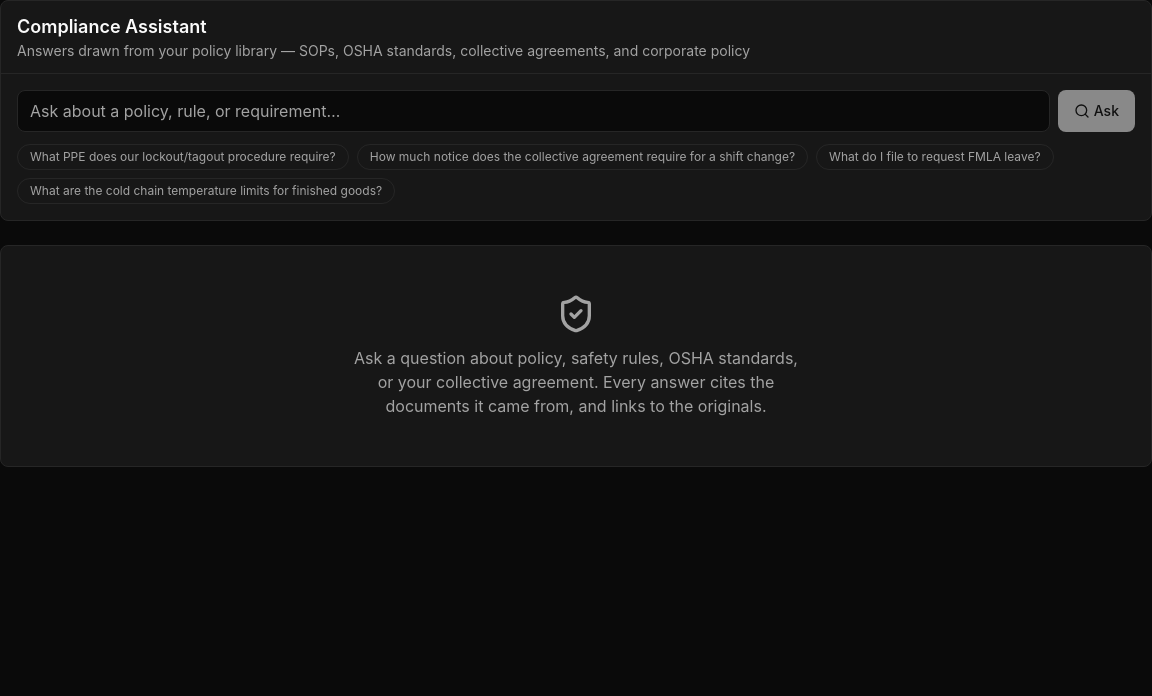
Compliance Assistant › renders a grounded answer with its cited passage
Type "lockout procedure" into the field named "Compliance question" at (533, 111), box [17,90,1050,132]
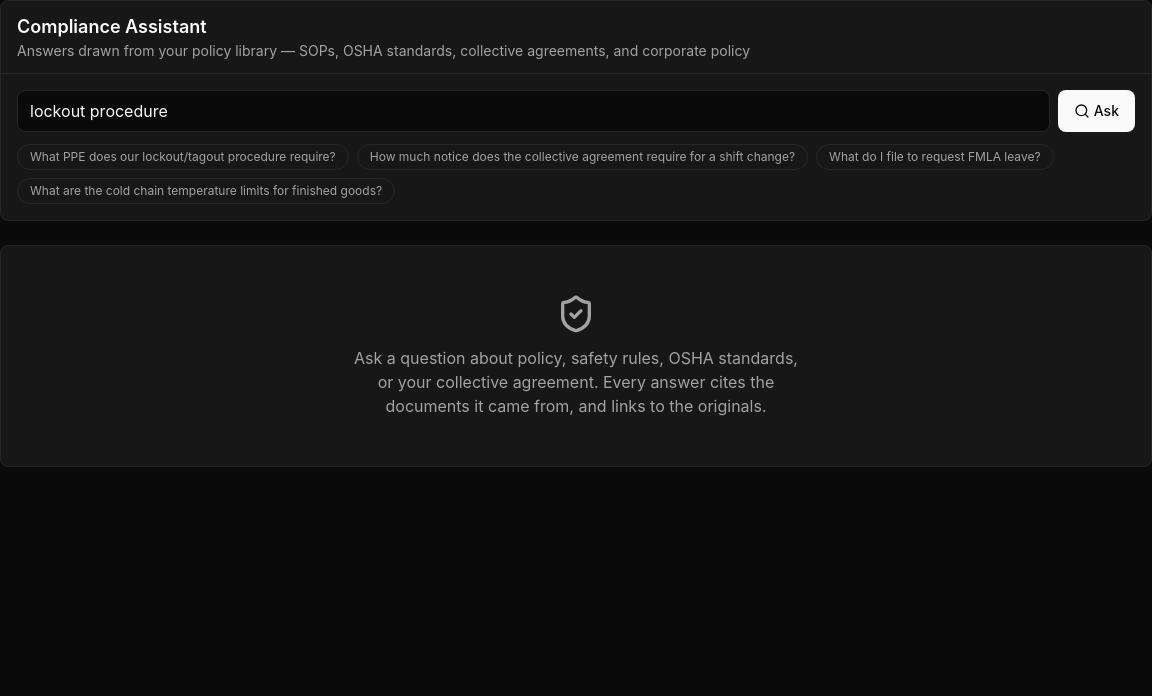
Click the button "Ask" at (1096, 111), box [1058,90,1135,132]
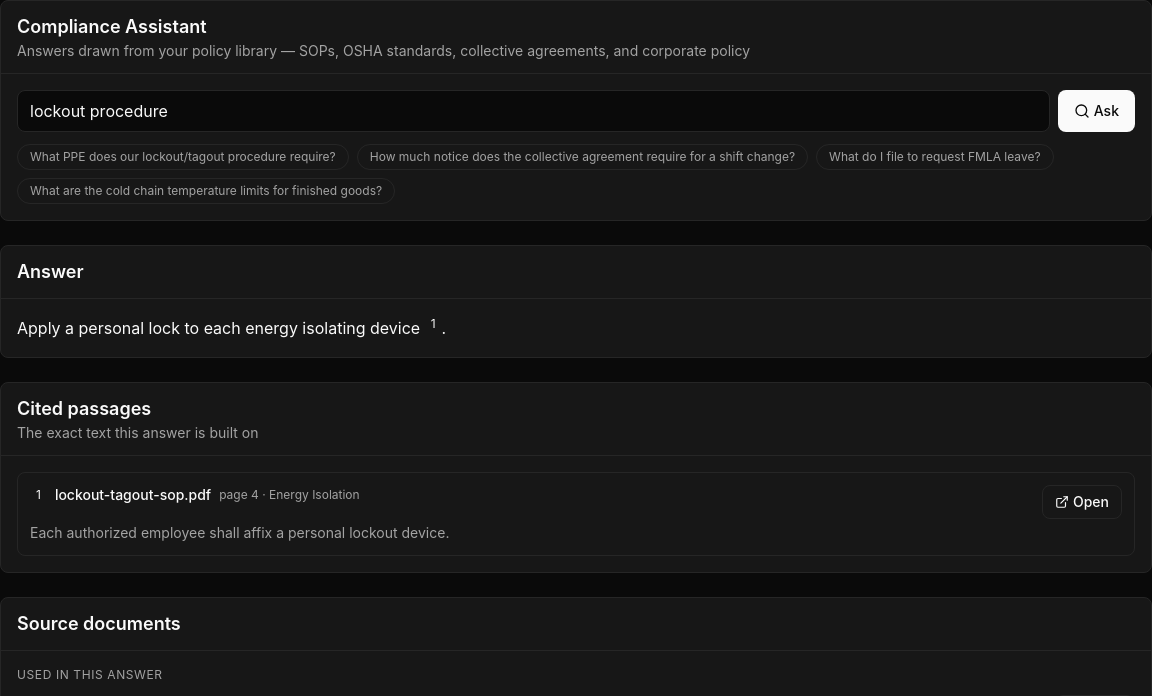
Check: the heading "Answer" is shown, box [17,258,84,286]
Check: the text "personal lockout device" is shown, box [30,524,450,541]
Check: the text "lockout-tagout-sop.pdf" next to "page 4 · Energy Isolation" is shown, box [55,486,211,503]
